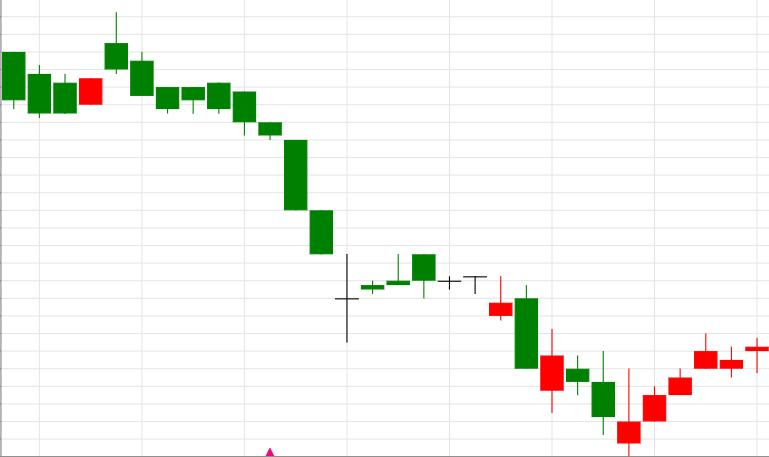inverse_hammer_rise: (515, 286, 641, 456)
